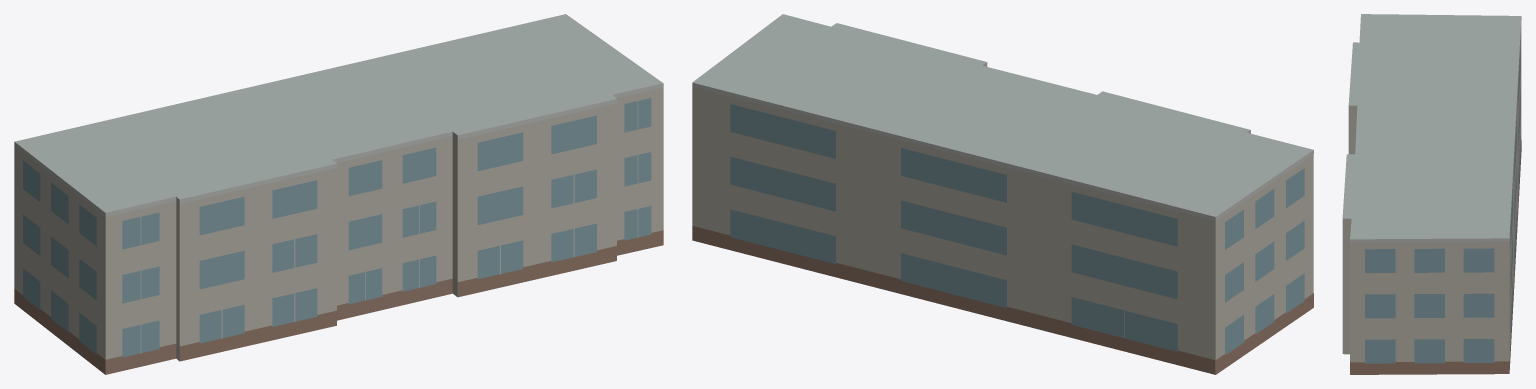
Rendered from survey-upis-32623158.glb.
3 renders of one model, left to right at view 1: azimuth 30°, elevation 25°; view 2: azimuth 150°, elevation 25°; view 3: azimuth 270°, elevation 25°, orthographic. The views are drawn at different scales.
Visible parts, largest first — view 1: survey-upis-32623158.tmp; view 2: survey-upis-32623158.tmp; view 3: survey-upis-32623158.tmp.
Boxes of the visible parts, left/top/right/bottom form: survey-upis-32623158.tmp: left=14, top=14, right=663, bottom=374; survey-upis-32623158.tmp: left=692, top=14, right=1313, bottom=374; survey-upis-32623158.tmp: left=1342, top=14, right=1521, bottom=374.
Bounding box in the file's own units: 32.6 × 9.15 × 10.95.
